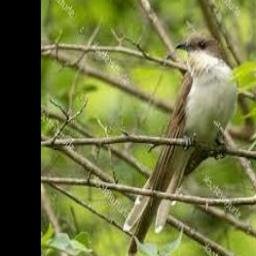Cuckoo: (124, 32, 236, 255)
